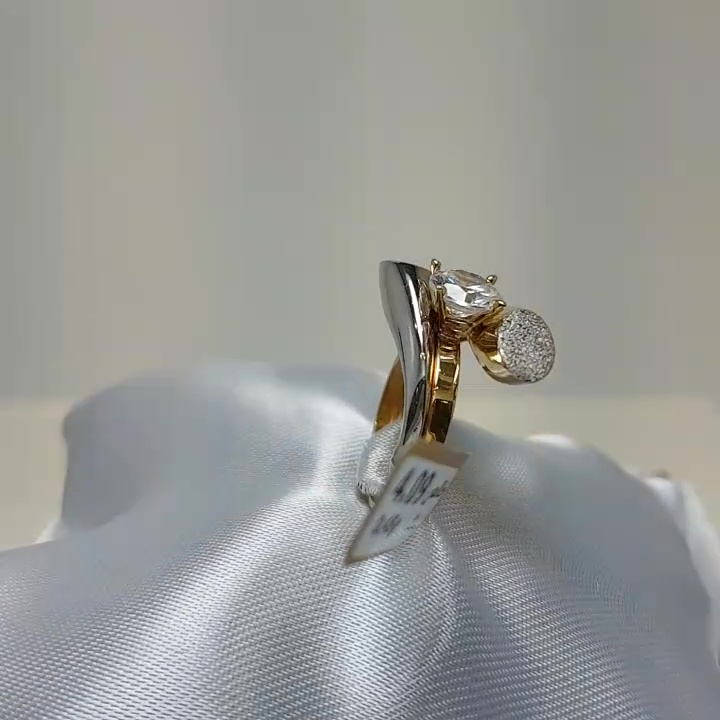Ring 7: (321, 248, 566, 538)
